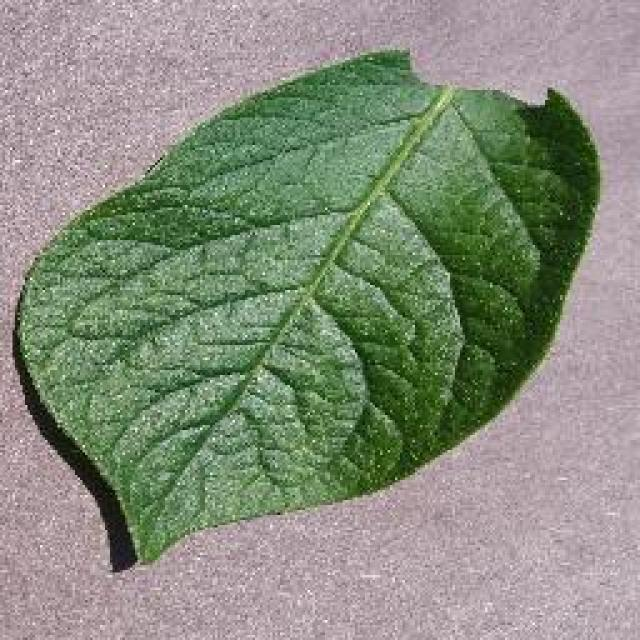Potato___healthy: (15, 46, 605, 568)
